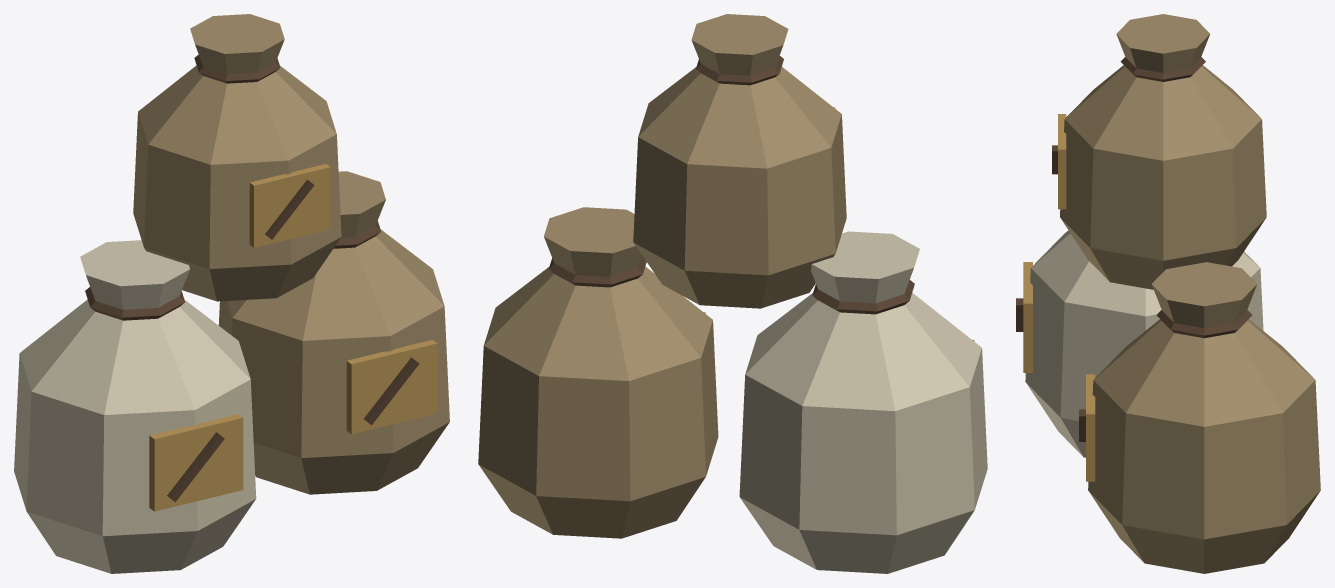
Rendered from feed_sacks.glb.
3 renders of one model, left to right at view 1: azimuth 30°, elevation 25°; view 2: azimuth 150°, elevation 25°; view 3: azimuth 270°, elevation 25°, orthographic. The views are drawn at different scales.
Visible parts, largest first — view 1: geometry; view 2: geometry; view 3: geometry.
Part boxes in pixels (x1=…): geometry: x1=14, y1=14, x2=449, y2=573; geometry: x1=478, y1=14, x2=987, y2=573; geometry: x1=1016, y1=14, x2=1320, y2=573.
Size of the model in its own units: 0.8326 by 0.844 by 0.5184.
